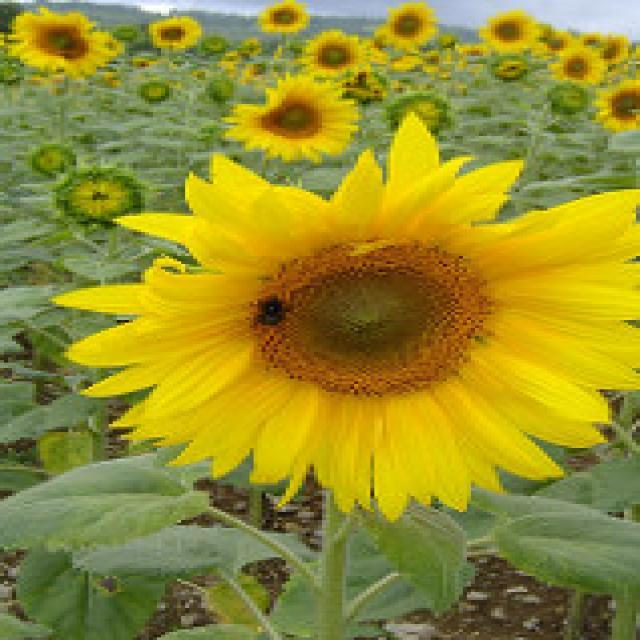sunflower: (56, 115, 640, 517), (224, 78, 358, 163), (10, 6, 103, 70), (482, 11, 544, 51), (553, 42, 609, 86), (378, 3, 433, 46), (310, 32, 360, 74), (596, 83, 640, 128), (259, 2, 312, 36), (151, 15, 199, 52), (602, 35, 628, 63)
